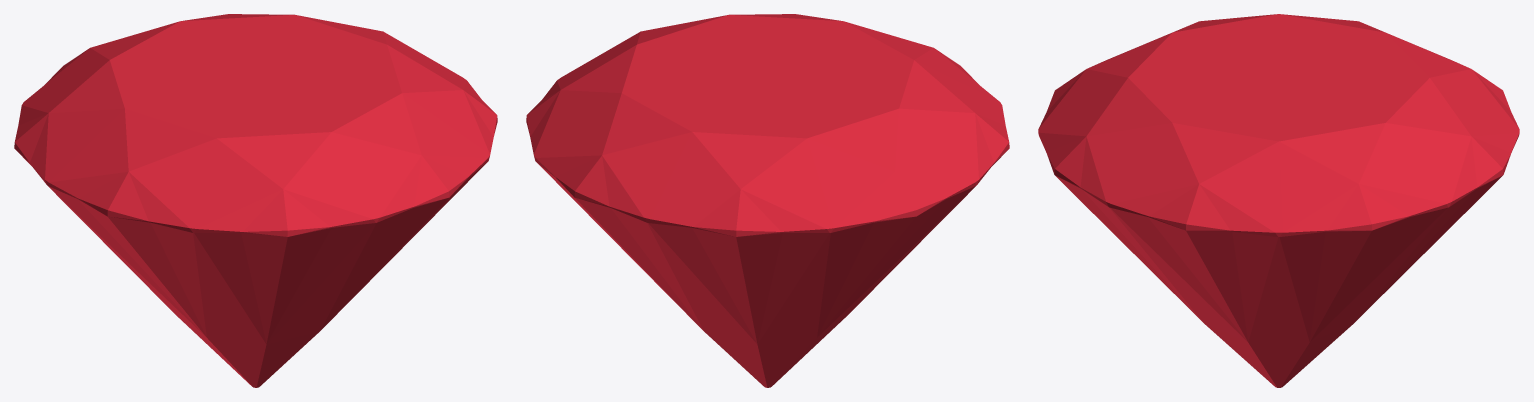
Rendered from real_ruby copy.glb.
3 renders of one model, left to right at view 1: azimuth 30°, elevation 25°; view 2: azimuth 150°, elevation 25°; view 3: azimuth 270°, elevation 25°, orthographic.
Visible parts, largest first — view 1: Cylinder001_Material #27_0; view 2: Cylinder001_Material #27_0; view 3: Cylinder001_Material #27_0.
Boxes of the visible parts, x1,y1,x2,y2 form: Cylinder001_Material #27_0: [14, 14, 497, 387]; Cylinder001_Material #27_0: [526, 14, 1009, 387]; Cylinder001_Material #27_0: [1038, 14, 1519, 387].
Bounding box in the file's own units: 68.91 × 48.75 × 68.91.
